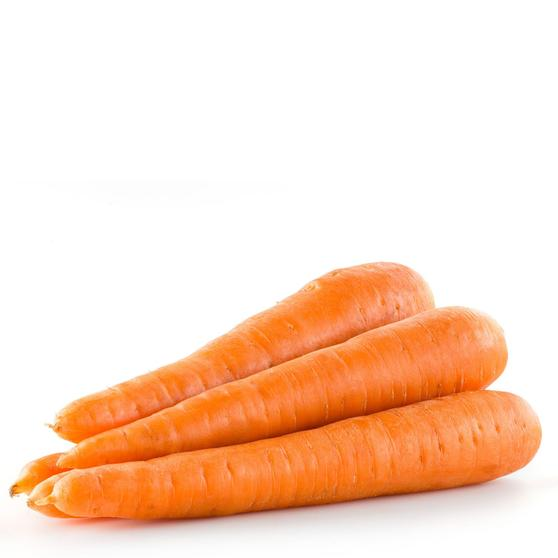carrot: (84, 303, 515, 454)
